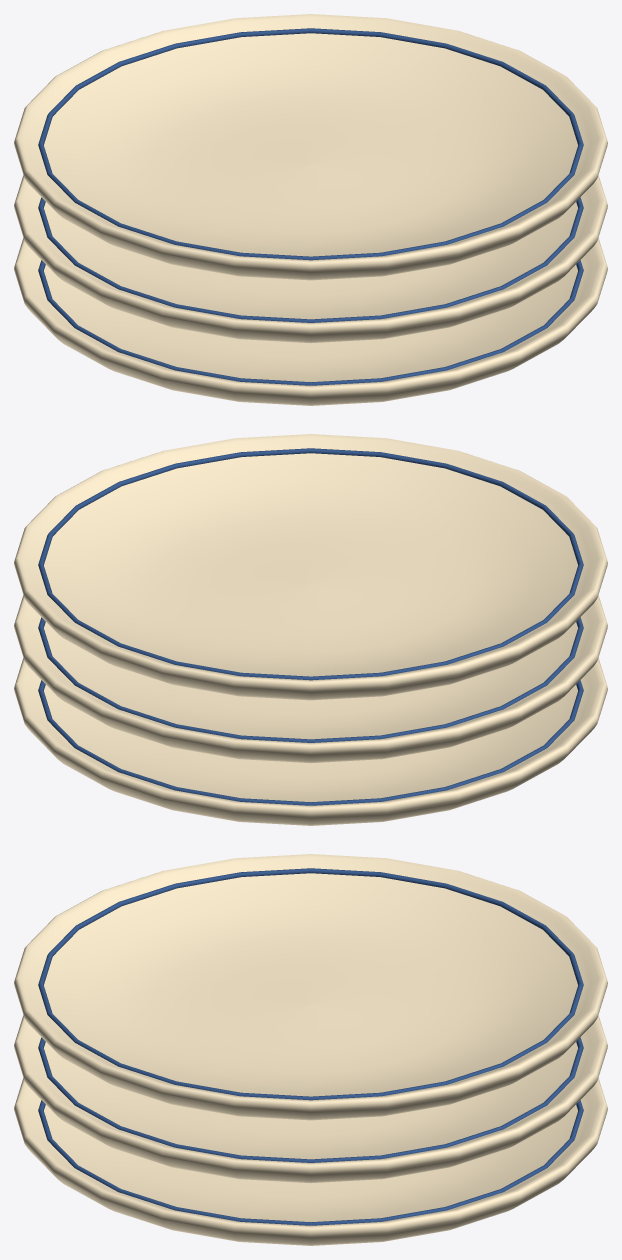
File: plate-stack-569-light.glb
3 views of the same model, one above another, from view 1: azimuth 30°, elevation 25°; view 2: azimuth 150°, elevation 25°; view 3: azimuth 270°, elevation 25° (orthographic).
Visible parts, largest first — view 1: ivory, blue; view 2: ivory, blue; view 3: ivory, blue.
Part boxes in pixels (box(x1,y1,x2,y2)): ivory: box(14, 14, 607, 405); blue: box(38, 28, 583, 385); ivory: box(14, 434, 607, 825); blue: box(38, 448, 583, 805); ivory: box(14, 854, 607, 1245); blue: box(38, 868, 583, 1225).
Bounding box in the file's own units: 2.4 × 0.726 × 2.4.
